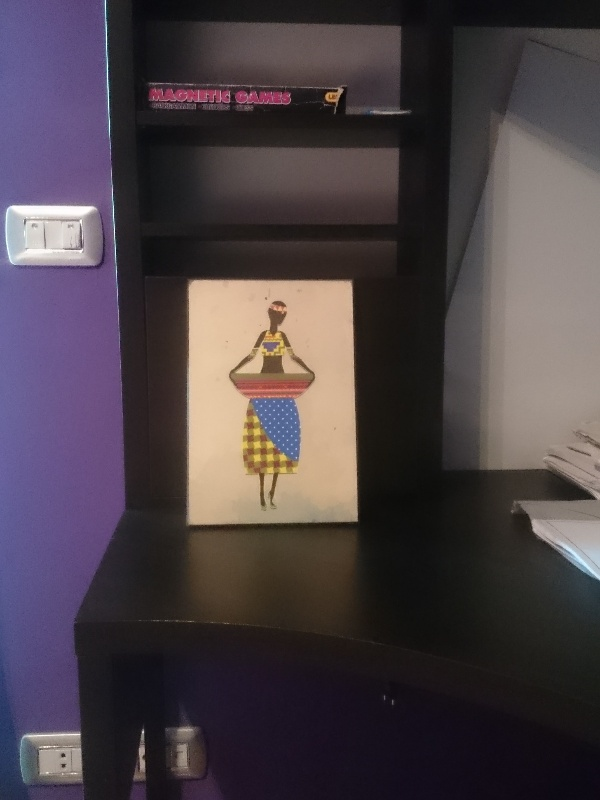my image: (185, 281, 353, 525)
